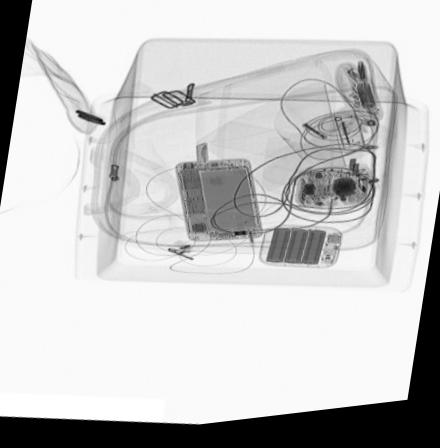Powerbank: (252, 231, 347, 279)
